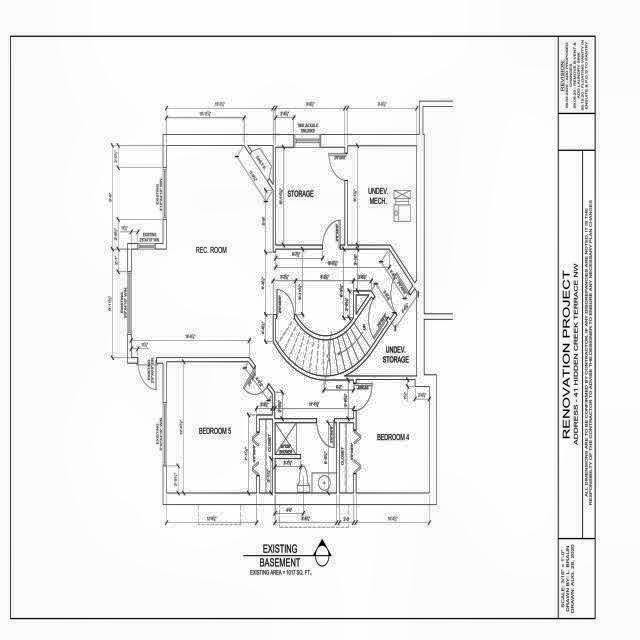room: (167, 362, 272, 493), (348, 146, 417, 283), (356, 380, 429, 493), (276, 147, 345, 245), (346, 289, 417, 376), (275, 423, 337, 493), (339, 423, 353, 493), (259, 419, 272, 493)
